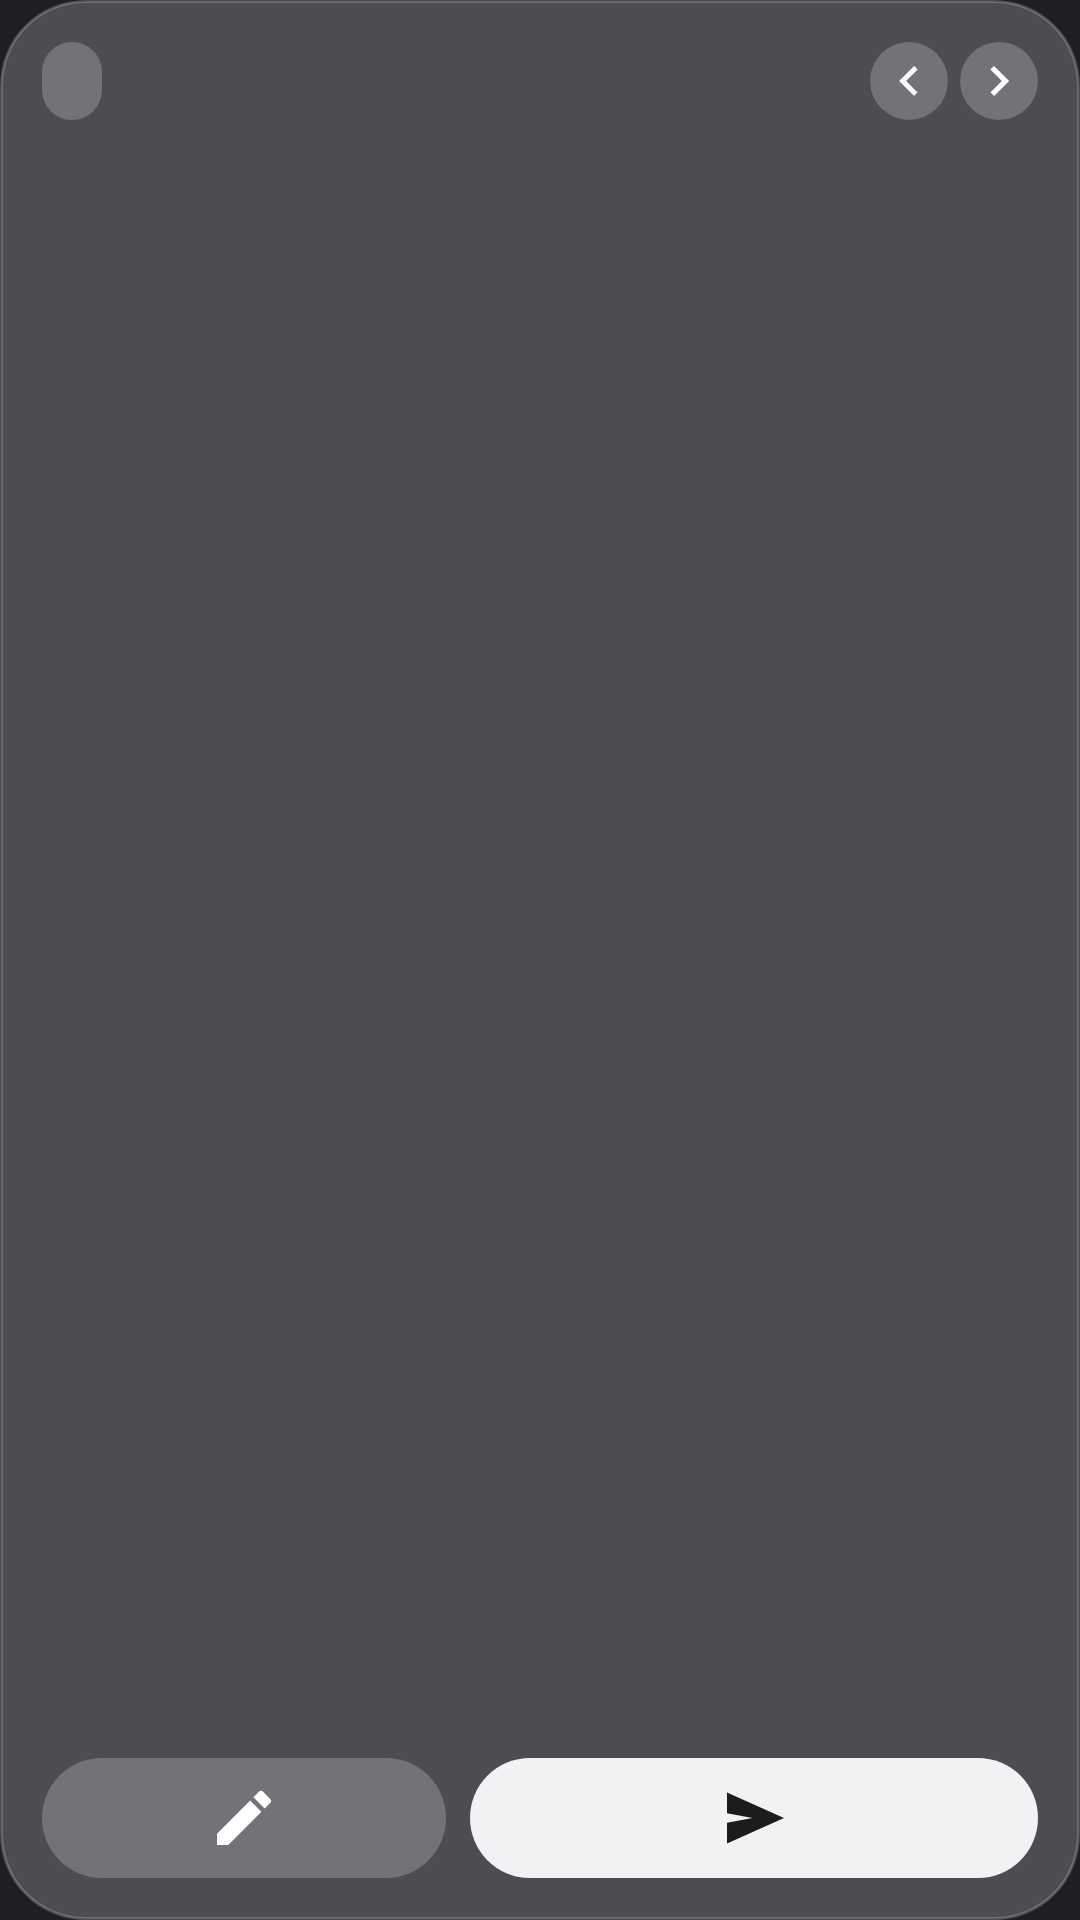

Icon click points for this 1080w x 1920h phone screenshot, format (x,y):
Далі: (999,81)
Назад: (909,81)
